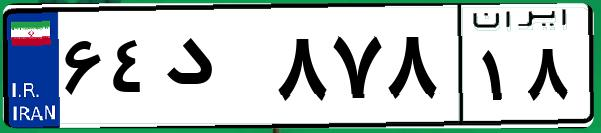1: (475, 38, 525, 113)
4: (110, 28, 158, 98)
6: (57, 26, 110, 100)
7: (330, 28, 385, 110)
8: (270, 28, 330, 110), (385, 28, 445, 110), (525, 38, 570, 115)
د: (158, 20, 270, 120)
